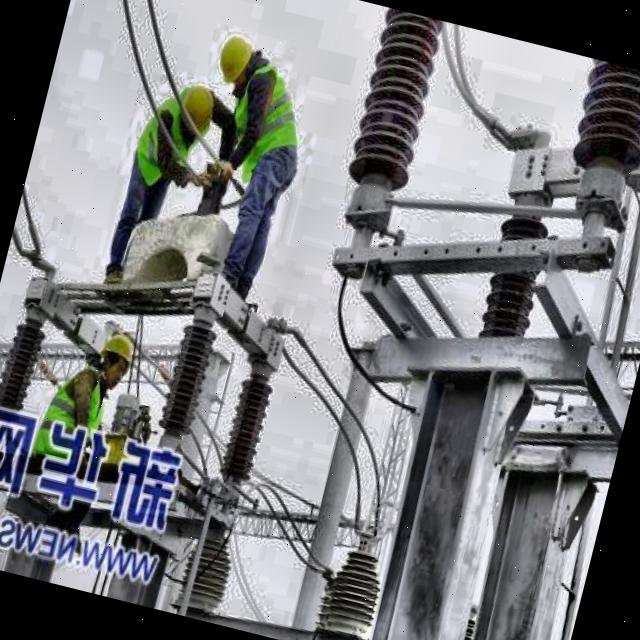helmet: (88, 324, 144, 391), (208, 26, 262, 93), (172, 81, 216, 137)
